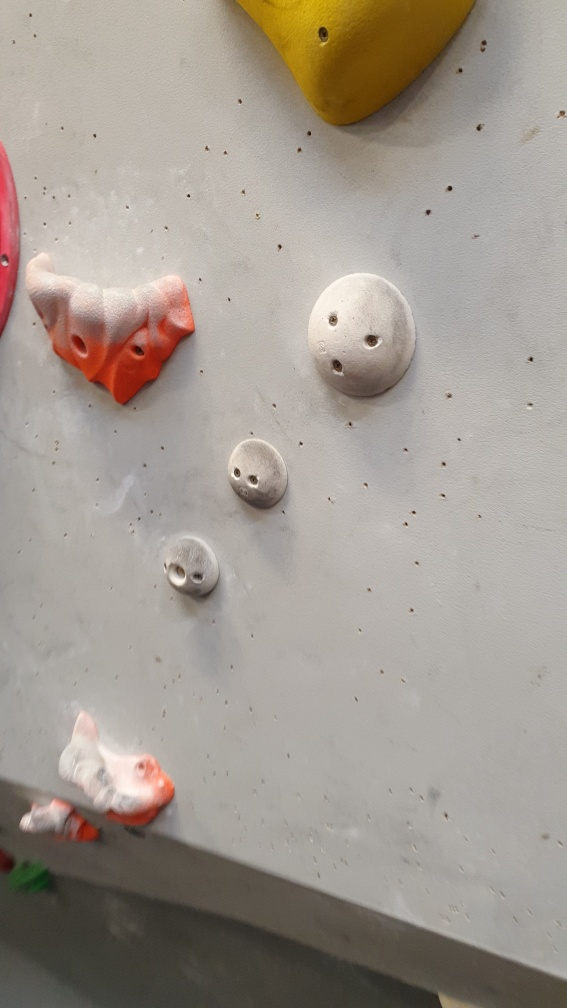Jug: (23, 248, 200, 412), (59, 713, 180, 834)
Sloper: (304, 269, 420, 398), (229, 434, 294, 515), (162, 534, 224, 601)
